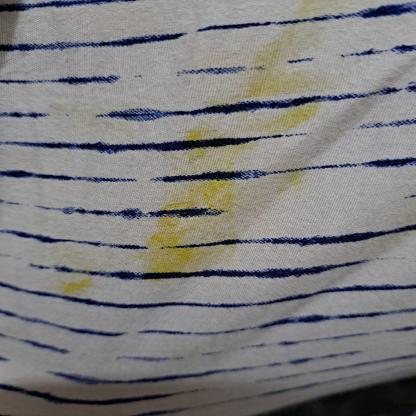spot: (29, 4, 351, 309)
